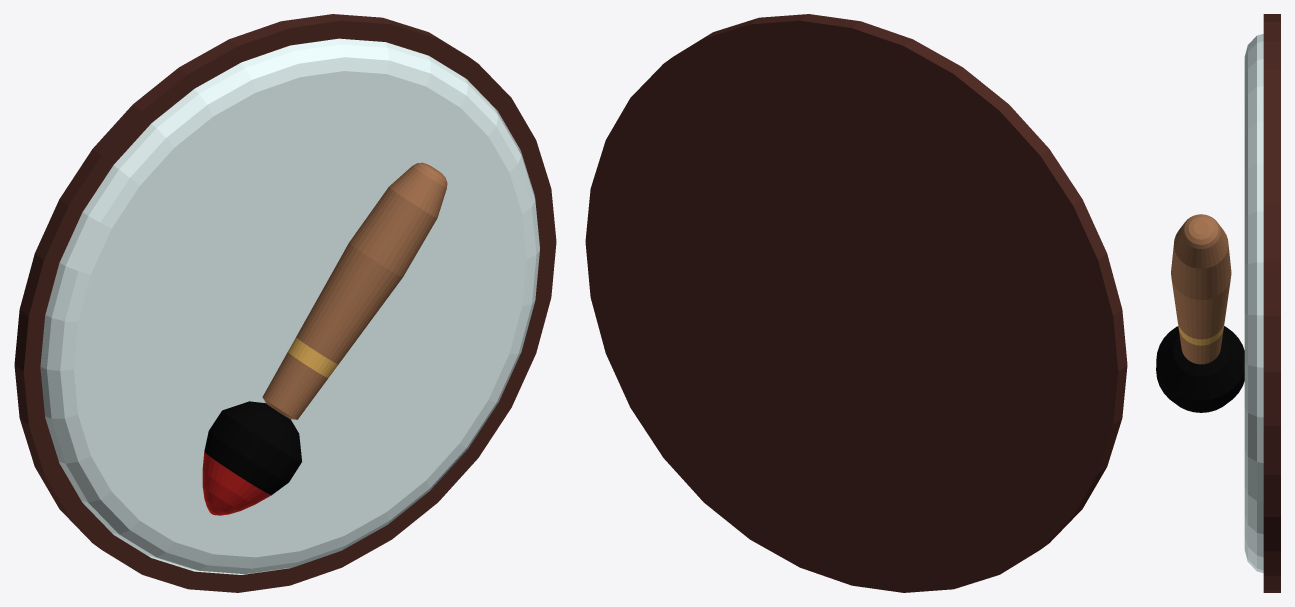
The model's file is PaintButtonPushed.glb.
3 views of the same model, side by side, from view 1: azimuth 30°, elevation 25°; view 2: azimuth 150°, elevation 25°; view 3: azimuth 270°, elevation 25° (orthographic). The views are drawn at different scales.
Parts seen in each view (by area): view 1: Cylinder.001, Cylinder.003; view 2: Cylinder.001; view 3: Cylinder.001, Cylinder.003.
Boxes of the visible parts, bbox=[...] form: Cylinder.001: bbox=[14, 14, 556, 592]; Cylinder.003: bbox=[202, 162, 447, 515]; Cylinder.001: bbox=[585, 14, 1127, 592]; Cylinder.001: bbox=[1244, 14, 1280, 592]; Cylinder.003: bbox=[1156, 214, 1244, 412].
Size of the model in its own units: 1 by 1 by 0.2153.
